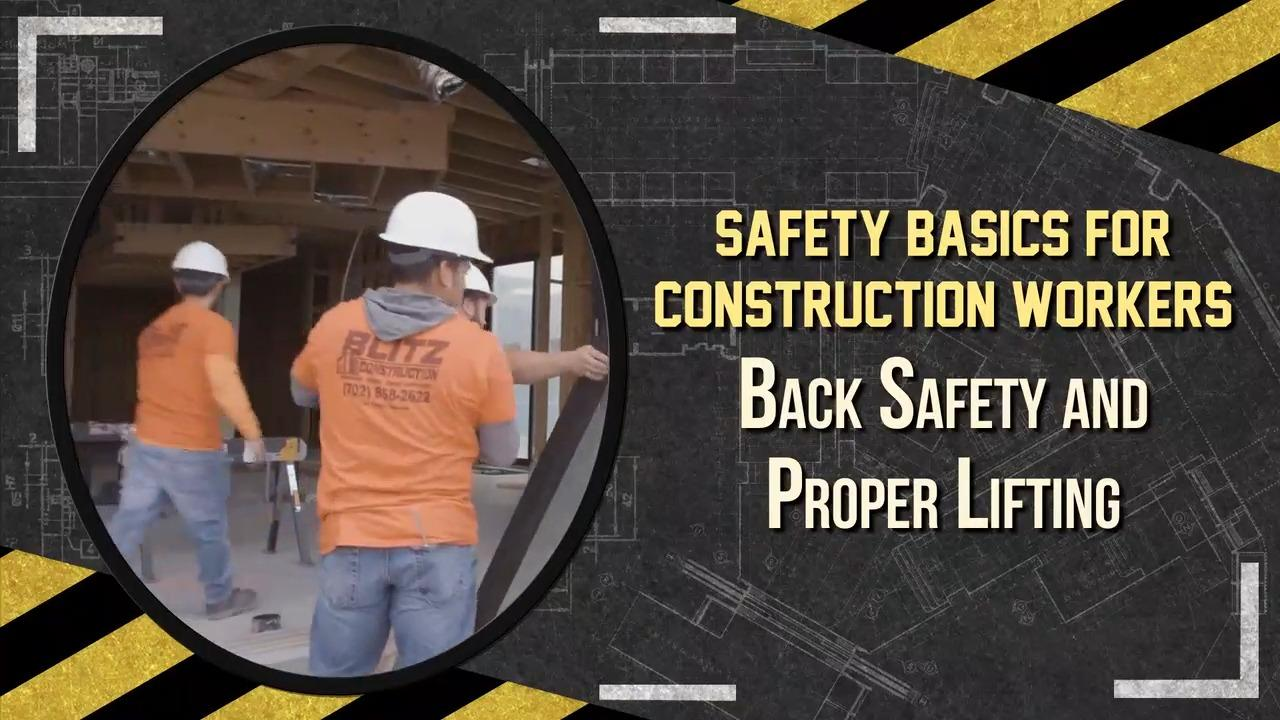Helmet: (400, 197, 499, 265), (165, 242, 231, 284)
Person: (261, 197, 582, 686), (104, 239, 266, 619)
Safety Boot: (204, 586, 257, 619)
bare-arms: (577, 336, 614, 389)
no-vest: (291, 293, 516, 553), (135, 317, 225, 447)
